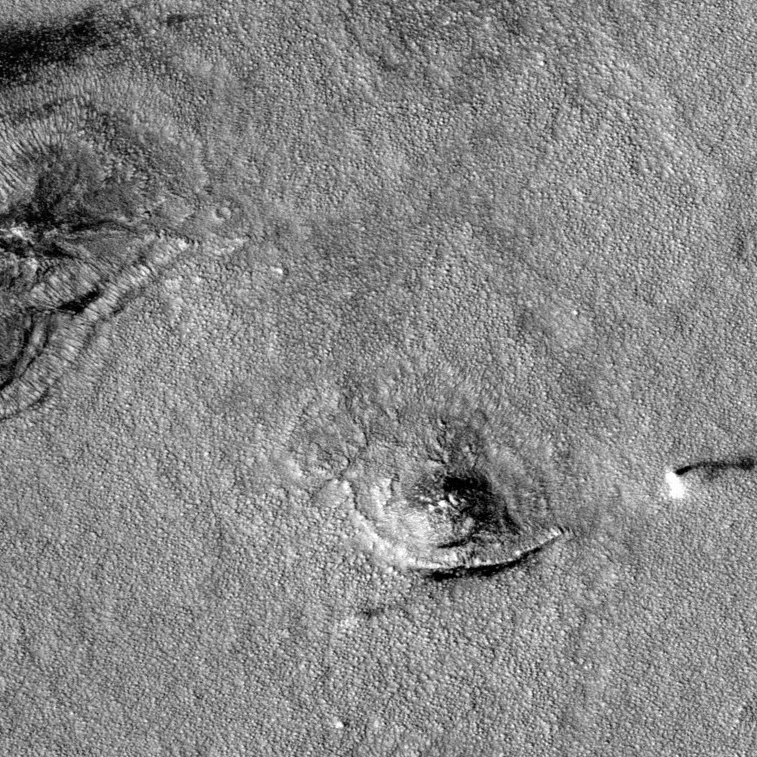dust_devil: (662, 453, 757, 504)
